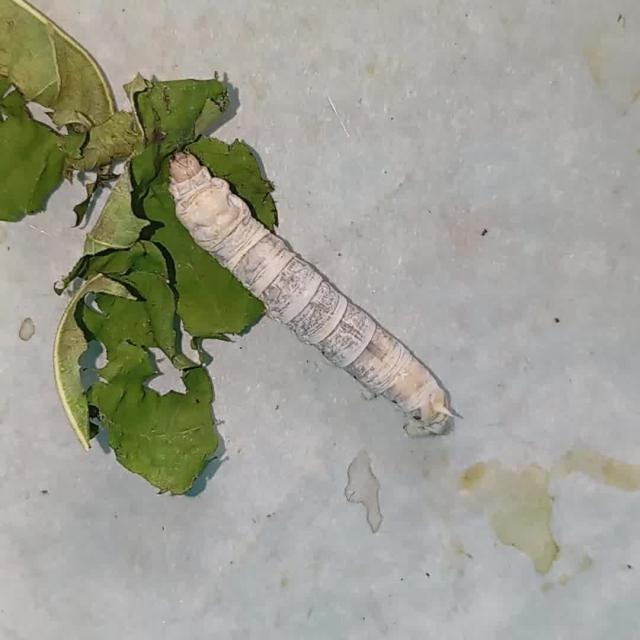Grasserie: (159, 132, 476, 464)
